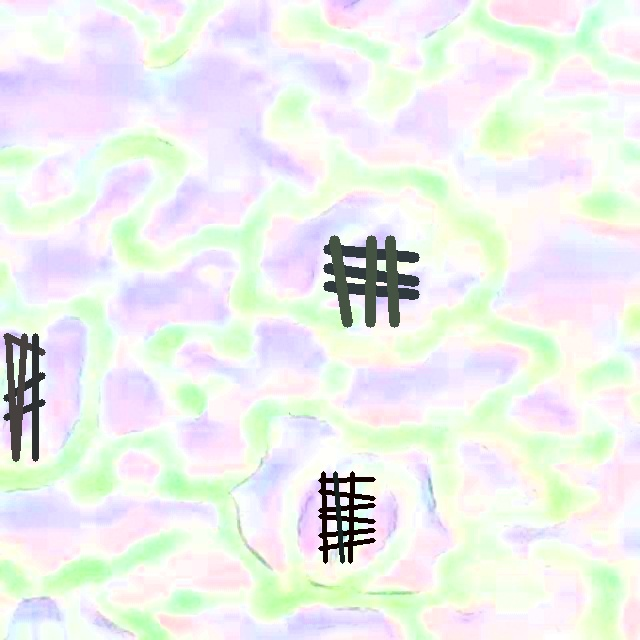open: (324, 236, 418, 326), (318, 471, 375, 563), (3, 333, 44, 460)
